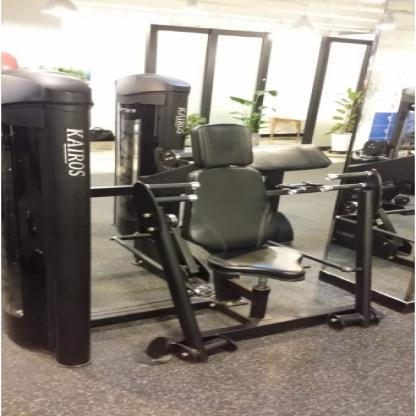Chest Press machine: (6, 65, 416, 376)
